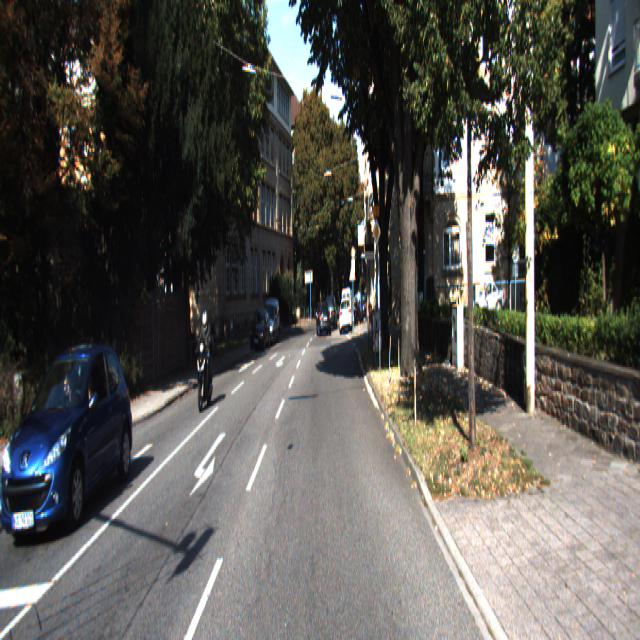Car: (0, 337, 135, 554), (192, 306, 216, 412), (248, 307, 271, 353), (260, 294, 280, 344), (318, 300, 331, 337), (339, 297, 351, 336)
